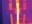Hotspot: (17, 0, 19, 23)
